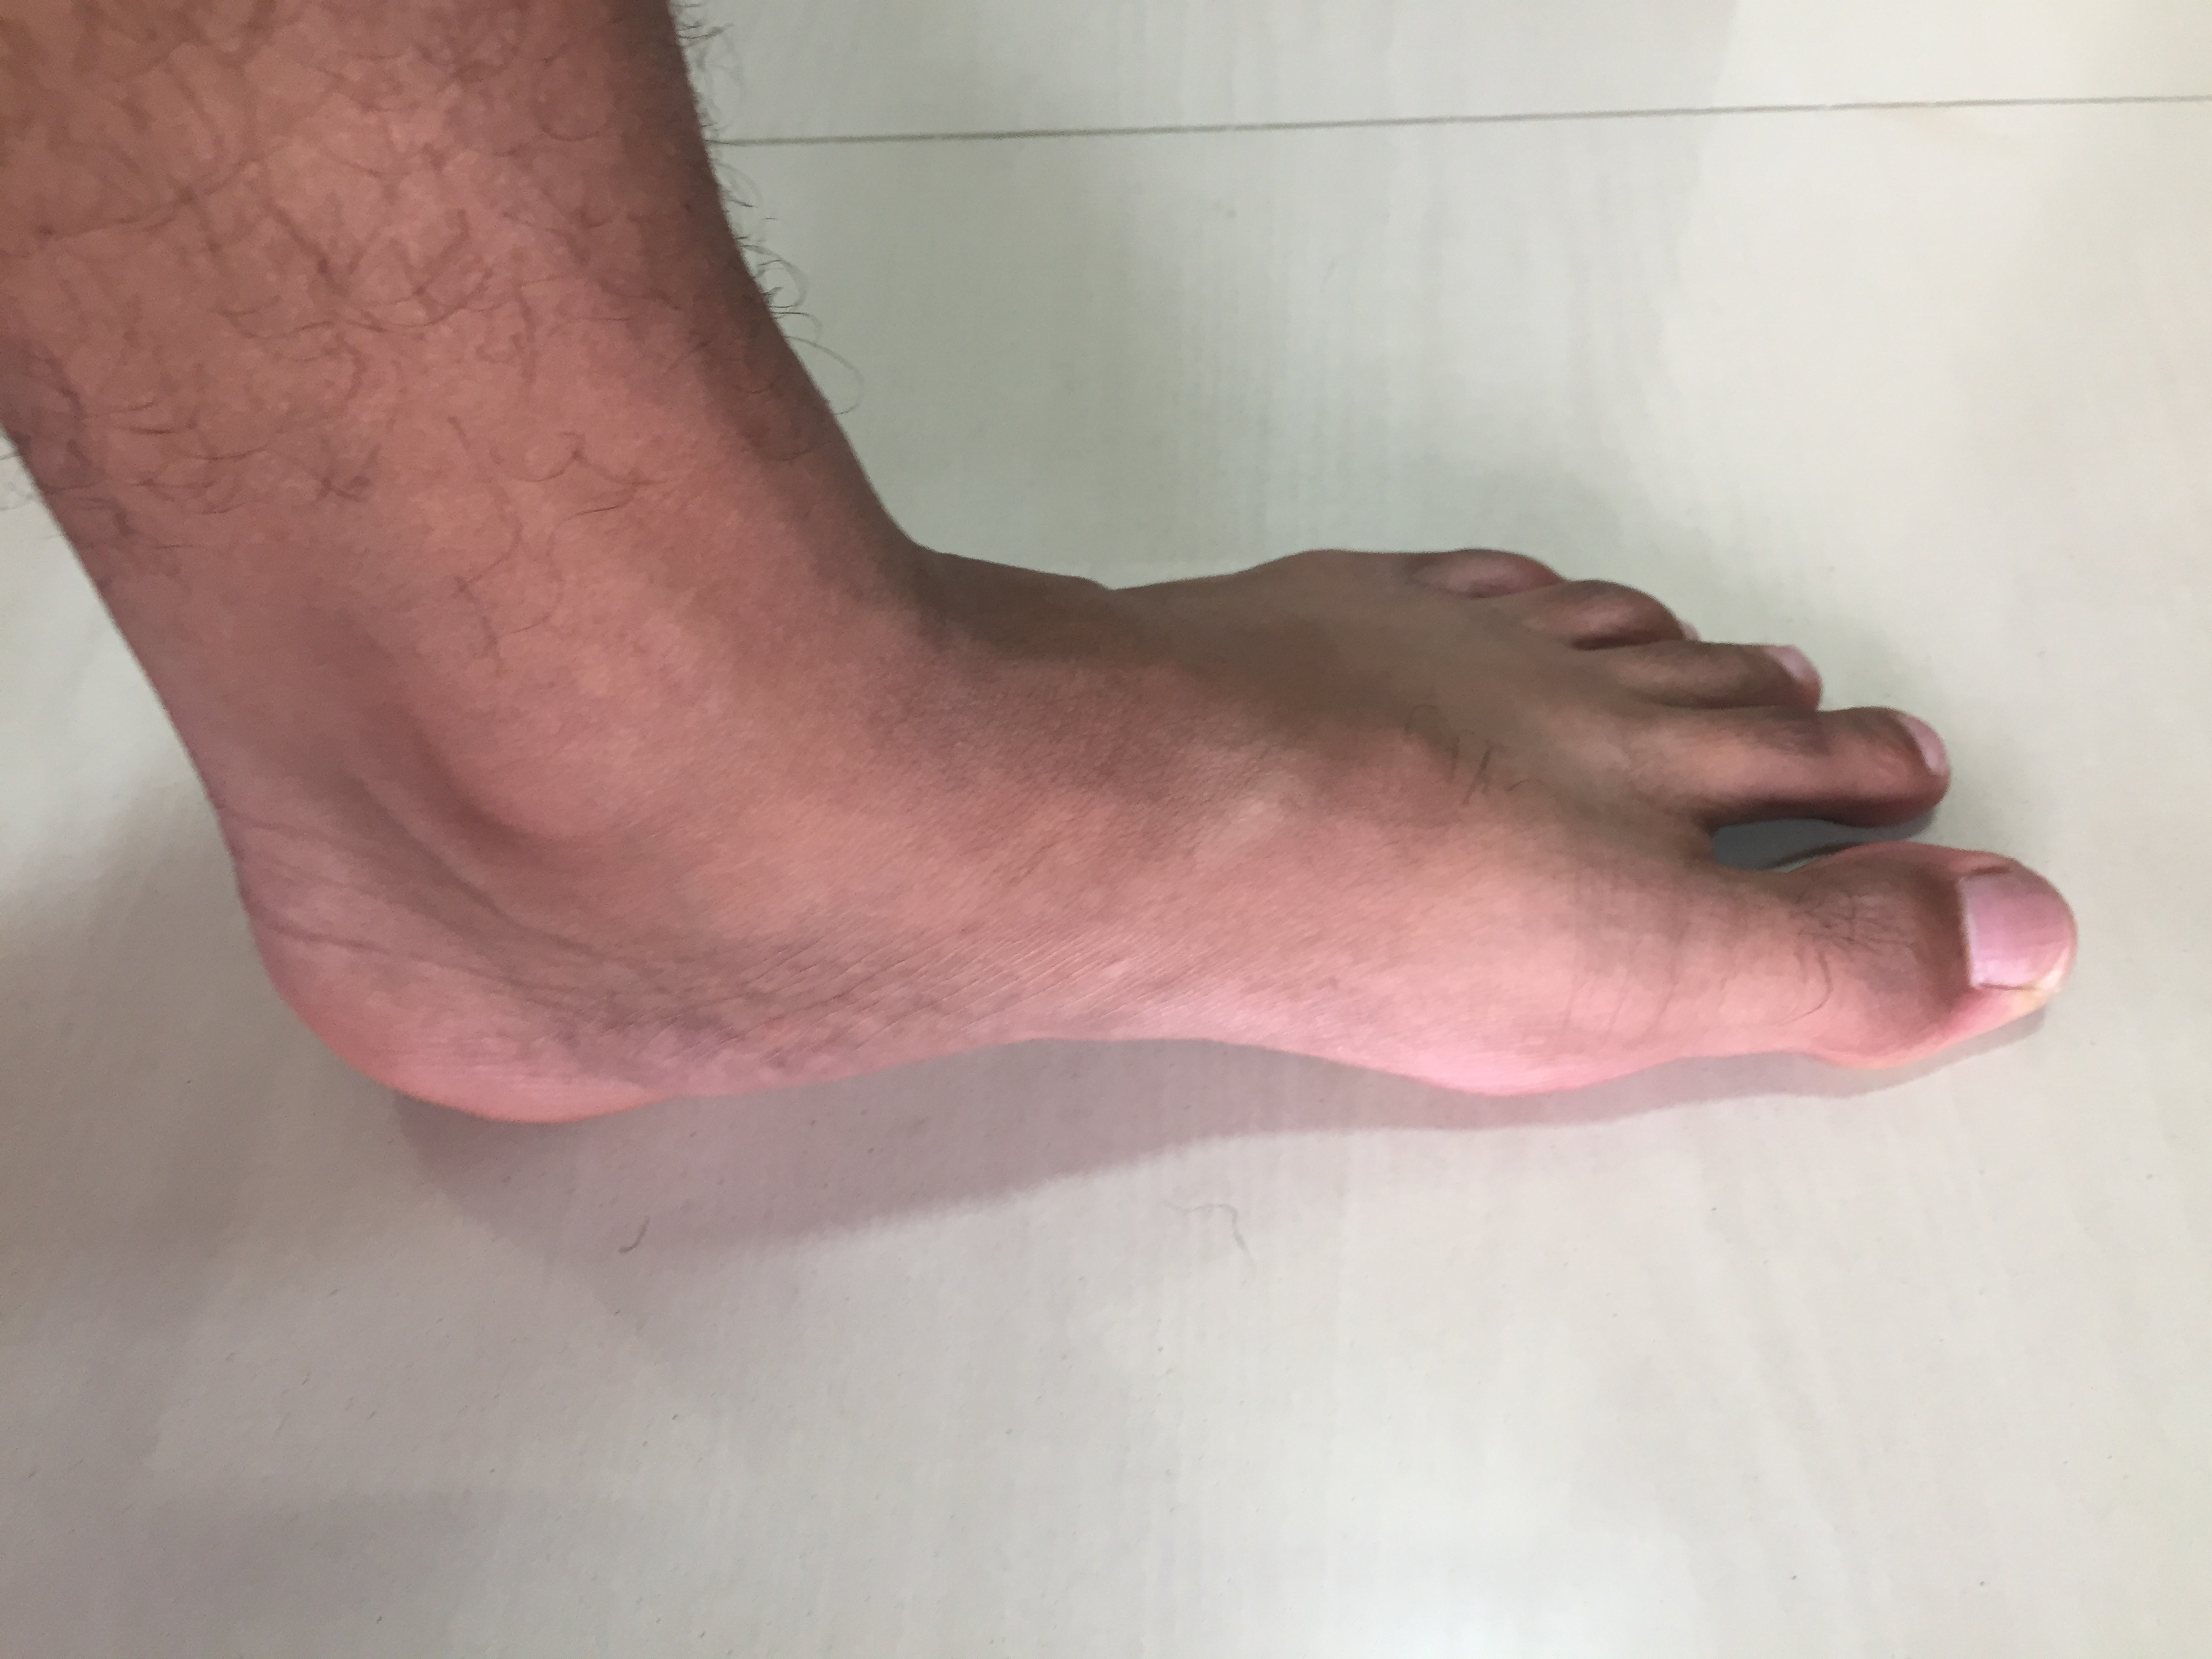feet: (91, 406, 2066, 1119)
